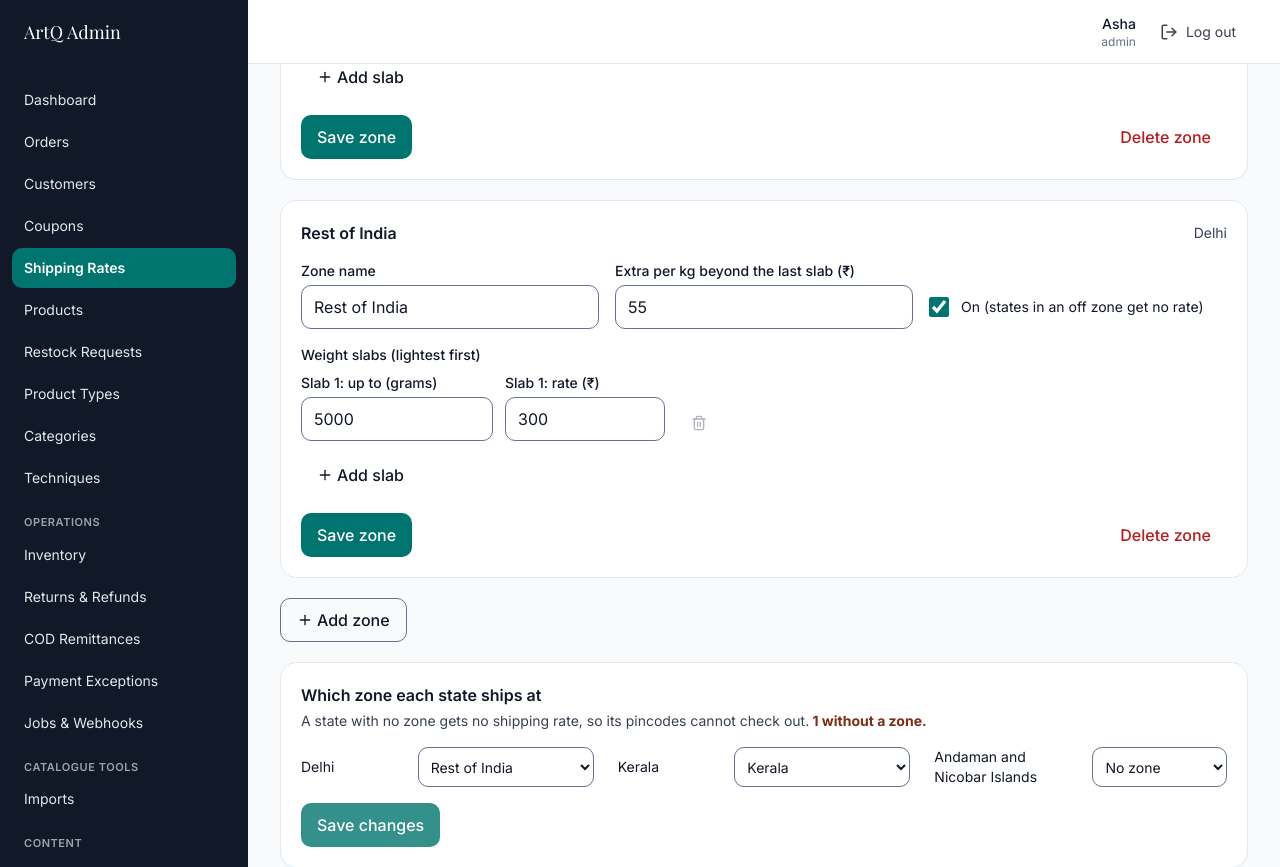
it: Shipping Rates page › a server field error on a slab lands on that field; a zone in use cannot be deleted (explained)
The width and height of the screenshot is (1280, 867).
(page scrolled)
Click the button "Save zone" below "Rest of India" at coordinates (357, 535), box left=301, top=513, right=412, bottom=557
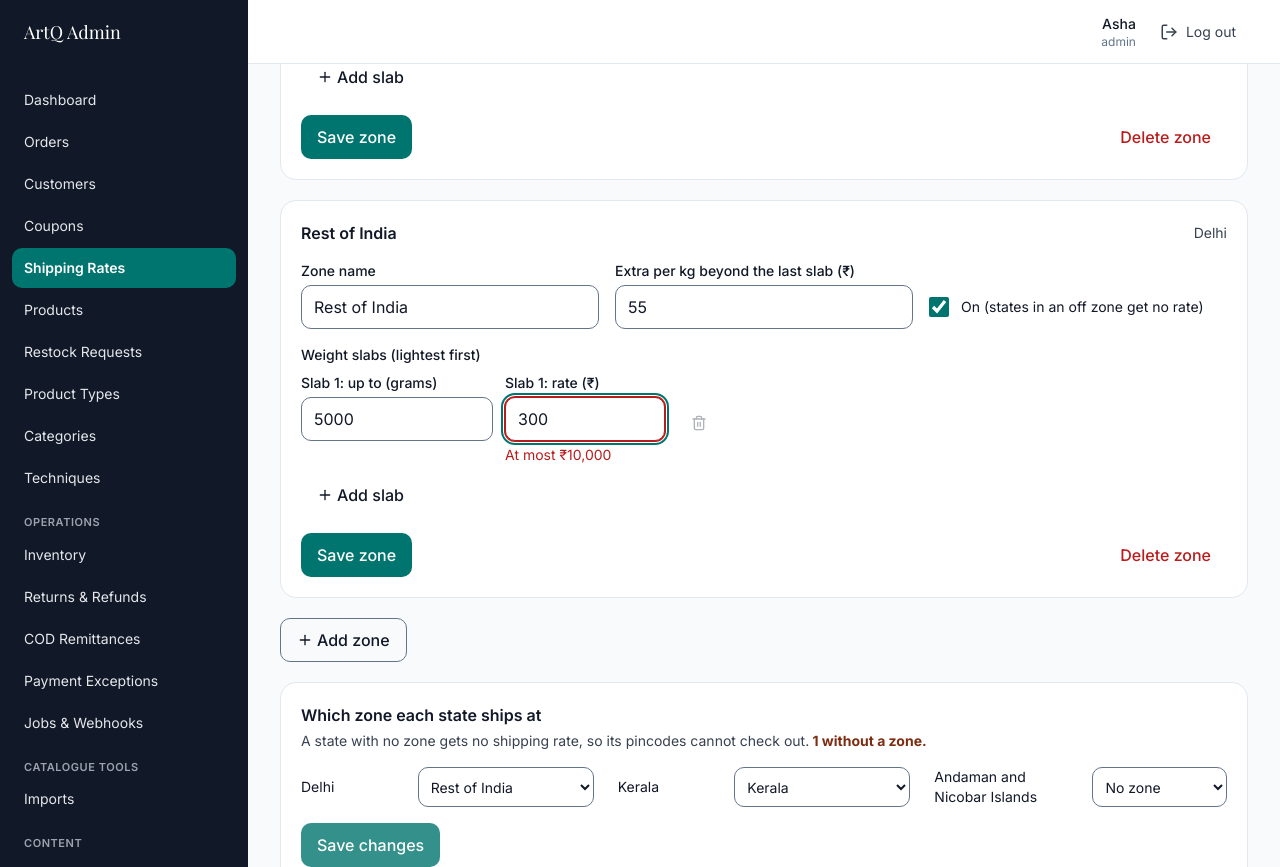
Click the 1st button "Delete zone" at coordinates (1166, 137), box left=1104, top=115, right=1227, bottom=159
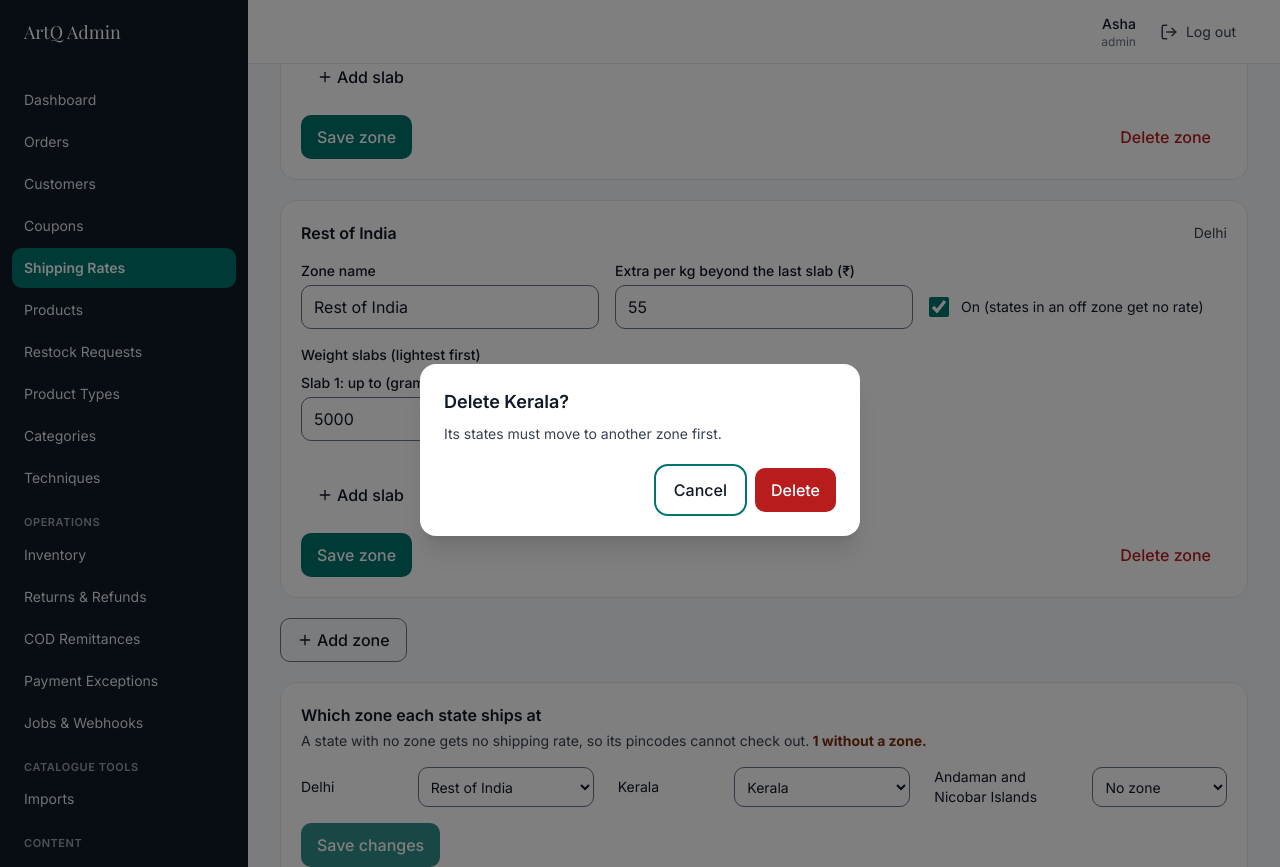
Expected: the text "Its states must move to another zone first." is shown, left=444, top=425, right=722, bottom=442
Click the button "Delete" at coordinates (795, 490), box left=755, top=468, right=836, bottom=512
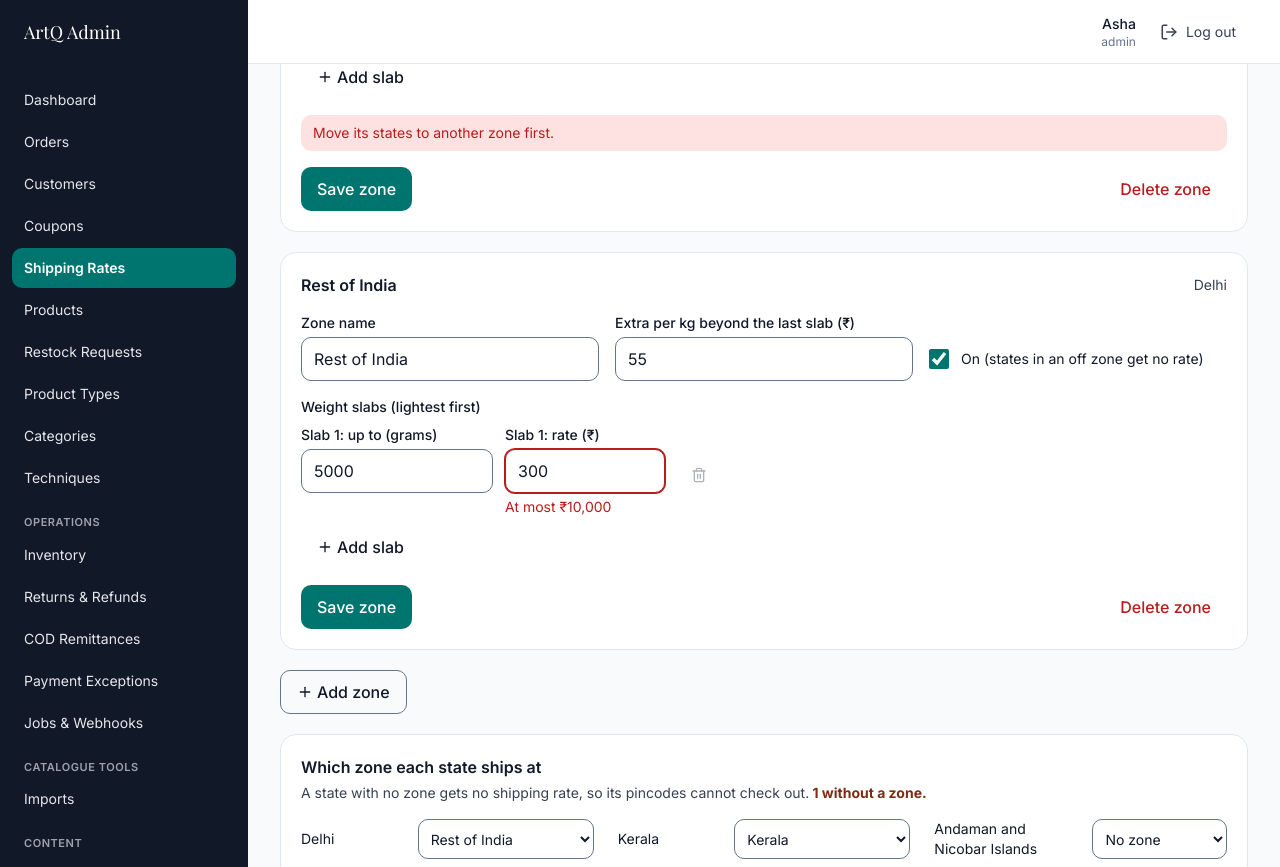
Expected: the message reads "Move its states to another zone first.", left=313, top=124, right=554, bottom=141
